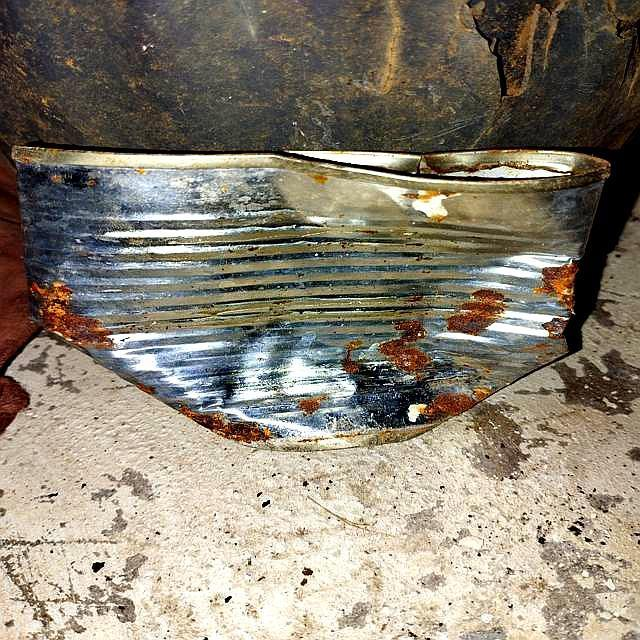Non-biodegradable: (11, 142, 614, 452)
